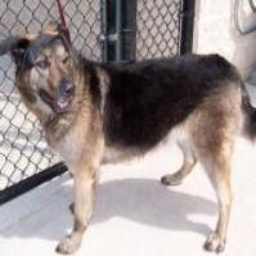dog: (8, 17, 250, 253)
